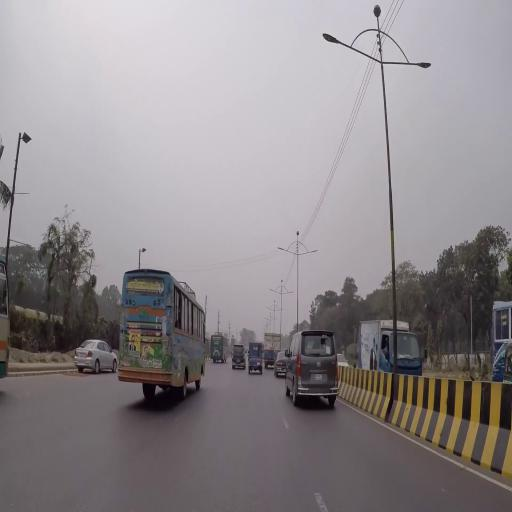bus: (119, 269, 208, 400), (210, 332, 229, 365)
car: (74, 339, 119, 376), (275, 351, 290, 378)
minivan: (286, 330, 341, 408), (232, 344, 247, 373)
pickup: (359, 320, 428, 379), (265, 332, 283, 370), (249, 340, 264, 377)
